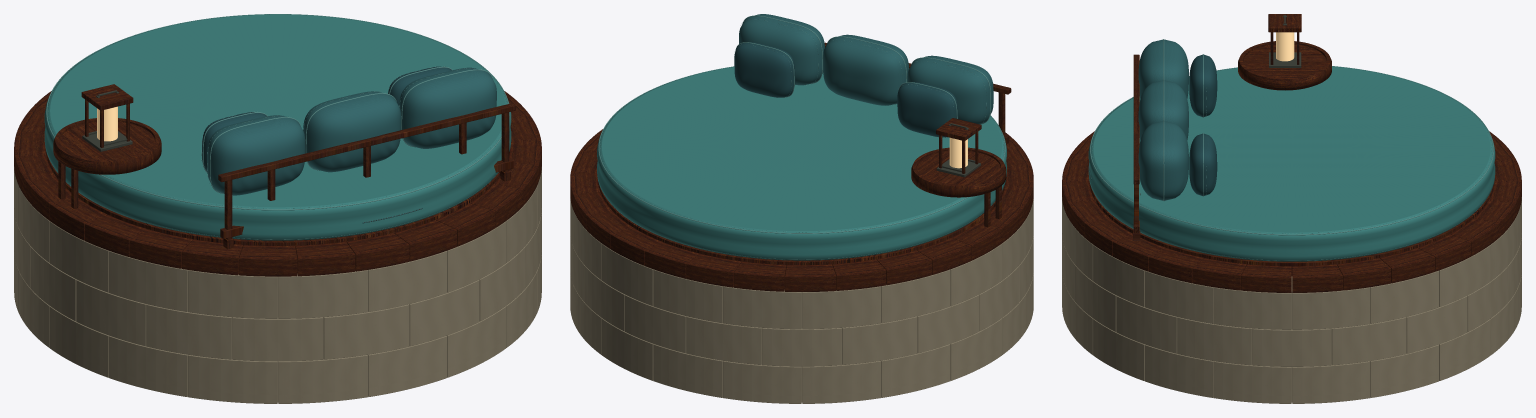
File: daybed-v1.glb
The picture shows the model from 3 angles, left to right: view 1: azimuth 30°, elevation 25°; view 2: azimuth 150°, elevation 25°; view 3: azimuth 270°, elevation 25°; orthographic projection. The views are drawn at different scales.
Visible parts, largest first — view 1: DJC_Daybed_Honed_limestone, DJC_Daybed_Sea_teal_tailored_mattress, DJC_Daybed_Oiled_timber, DJC_Daybed_Deep_teal_back_cushions, DJC_Daybed_Seafoam_upholstery_welting, DJC_Daybed_Lagoon_accent_cushions, DJC_Daybed_Aged_marine_metal, DJC_Daybed_Opaque_amber_lantern_diffuser; view 2: DJC_Daybed_Sea_teal_tailored_mattress, DJC_Daybed_Honed_limestone, DJC_Daybed_Oiled_timber, DJC_Daybed_Deep_teal_back_cushions, DJC_Daybed_Lagoon_accent_cushions, DJC_Daybed_Seafoam_upholstery_welting, DJC_Daybed_Opaque_amber_lantern_diffuser, DJC_Daybed_Aged_marine_metal; view 3: DJC_Daybed_Sea_teal_tailored_mattress, DJC_Daybed_Honed_limestone, DJC_Daybed_Oiled_timber, DJC_Daybed_Deep_teal_back_cushions, DJC_Daybed_Lagoon_accent_cushions, DJC_Daybed_Seafoam_upholstery_welting, DJC_Daybed_Opaque_amber_lantern_diffuser.
Boxes of the visible parts, x1,y1,x2,y2 form: DJC_Daybed_Honed_limestone: (14, 167, 541, 403); DJC_Daybed_Sea_teal_tailored_mattress: (44, 14, 511, 240); DJC_Daybed_Oiled_timber: (14, 84, 541, 276); DJC_Daybed_Deep_teal_back_cushions: (207, 67, 496, 223); DJC_Daybed_Seafoam_upholstery_welting: (46, 14, 509, 239); DJC_Daybed_Lagoon_accent_cushions: (202, 66, 451, 171); DJC_Daybed_Aged_marine_metal: (82, 90, 421, 222); DJC_Daybed_Opaque_amber_lantern_diffuser: (97, 106, 117, 141); DJC_Daybed_Sea_teal_tailored_mattress: (597, 66, 1006, 260); DJC_Daybed_Honed_limestone: (570, 199, 1033, 403); DJC_Daybed_Oiled_timber: (570, 42, 1033, 291); DJC_Daybed_Deep_teal_back_cushions: (739, 14, 993, 124); DJC_Daybed_Lagoon_accent_cushions: (734, 42, 958, 137); DJC_Daybed_Seafoam_upholstery_welting: (598, 15, 1005, 259); DJC_Daybed_Opaque_amber_lantern_diffuser: (949, 137, 967, 168); DJC_Daybed_Aged_marine_metal: (936, 123, 980, 177); DJC_Daybed_Sea_teal_tailored_mattress: (1088, 66, 1495, 261); DJC_Daybed_Honed_limestone: (1062, 197, 1521, 403); DJC_Daybed_Oiled_timber: (1062, 14, 1521, 292); DJC_Daybed_Deep_teal_back_cushions: (1089, 39, 1188, 200); DJC_Daybed_Lagoon_accent_cushions: (1189, 54, 1217, 195); DJC_Daybed_Seafoam_upholstery_welting: (1090, 39, 1493, 260); DJC_Daybed_Opaque_amber_lantern_diffuser: (1276, 32, 1294, 61).
Bounding box in the file's own units: 3.3 × 1.71 × 3.3.
Materials: 8 (6 with a texture image).
